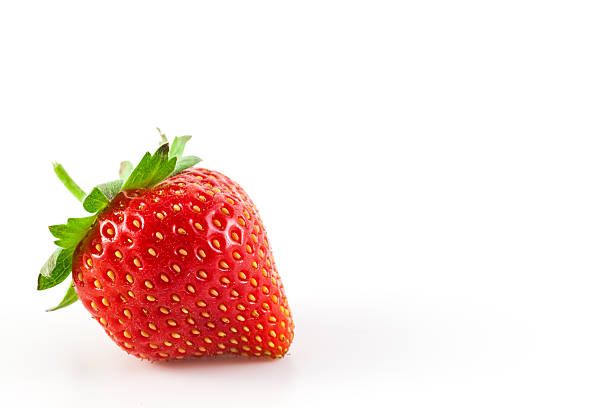Fresa: (66, 157, 299, 369)
